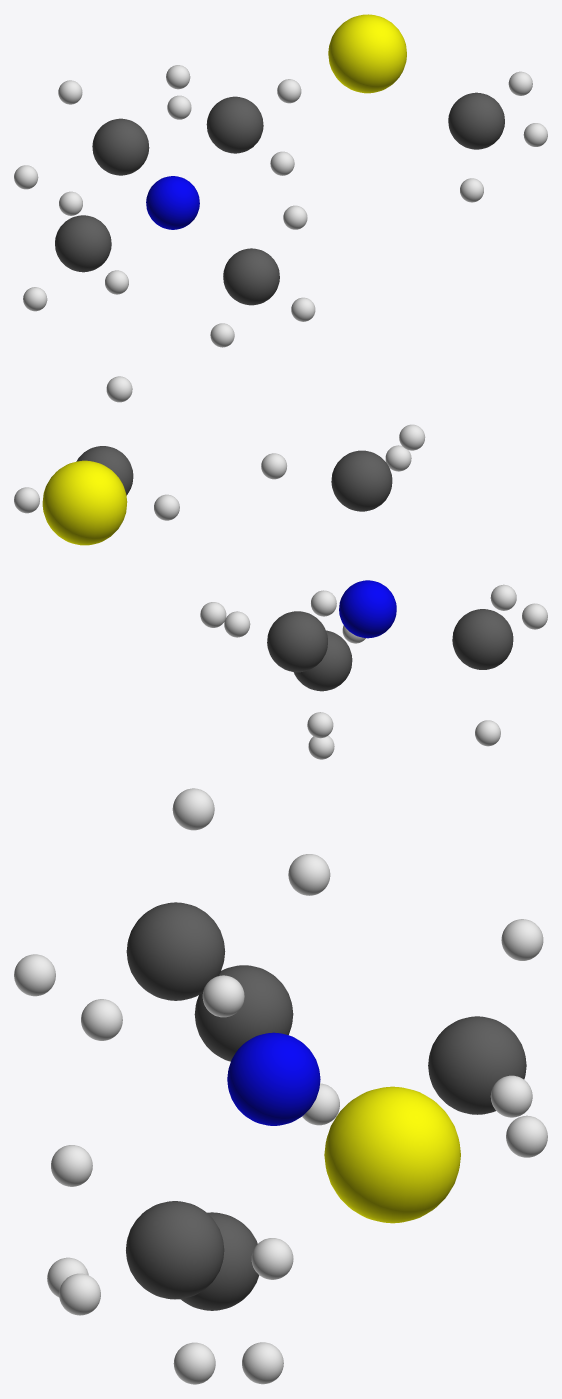
File: SN2_Methyl_Ammonium.fbx
3 views of the same model, one above another, from view 1: azimuth 30°, elevation 25°; view 2: azimuth 150°, elevation 25°; view 3: azimuth 270°, elevation 25° (orthographic). The views are drawn at different scales.
Parts seen in each view (by area): view 1: S06, C11, C19, C07, C15, C02, N01, H03, H14, H20, H05, H12 (+10 smaller); view 2: S06, C19, C11, C15, N01, C02, C07, H09, H13, H17, H14, H03 (+9 smaller); view 3: S06, C07, C19, C11, N01, C15, C02, H12, H18, H22, H08, H10 (+10 smaller).
Part boxes in pixels (box(x1,y1,x2,y2)): S06: box(328, 14, 406, 93); C11: box(92, 118, 149, 175); C19: box(206, 96, 263, 153); C07: box(448, 92, 504, 149); C15: box(55, 215, 111, 272); C02: box(223, 248, 279, 305); N01: box(146, 176, 199, 229); H03: box(283, 205, 307, 229); H14: box(58, 80, 82, 104); H20: box(270, 151, 294, 175); H05: box(210, 323, 234, 347); H12: box(167, 95, 191, 119); S06: box(42, 460, 127, 545); C19: box(331, 450, 392, 511); C11: box(267, 611, 327, 672); C15: box(452, 609, 513, 669); N01: box(339, 580, 396, 638); C02: box(293, 630, 352, 691); C07: box(76, 446, 133, 495); H09: box(106, 376, 132, 402); H13: box(307, 712, 333, 738); H17: box(522, 603, 547, 629); H14: box(311, 590, 336, 616); H03: box(224, 611, 250, 637); S06: box(324, 1086, 460, 1223); C07: box(126, 1201, 224, 1299); C19: box(126, 902, 225, 1000); C11: box(428, 1016, 526, 1114); N01: box(227, 1032, 320, 1125); C15: box(194, 965, 293, 1061); C02: box(180, 1212, 259, 1310); H12: box(490, 1075, 532, 1117); H18: box(288, 854, 330, 895); H22: box(172, 788, 214, 830); H08: box(173, 1342, 215, 1384); H10: box(59, 1273, 100, 1315).
Size of the model in its own units: 757 by 451 by 406.
